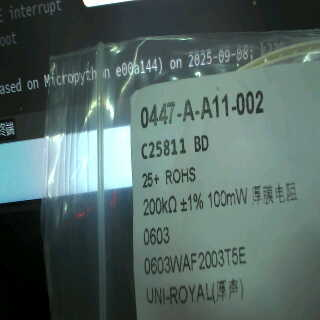200kR: (142, 191, 179, 219)
